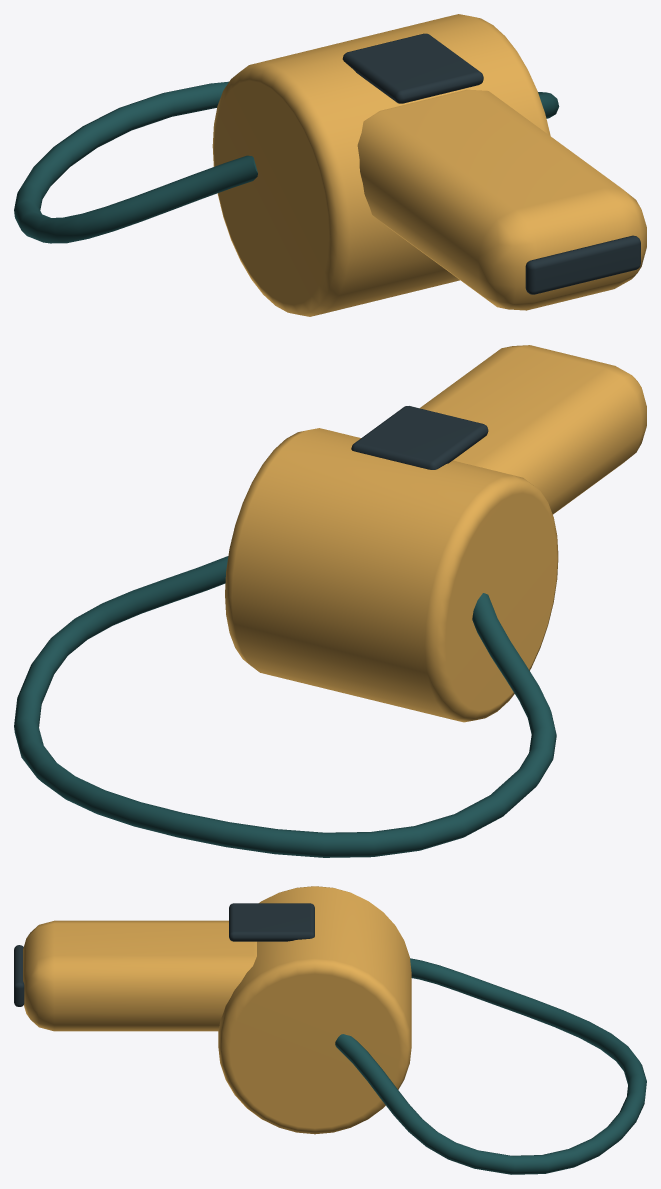
Rendered from Whistle.fbx.
3 views of the same model, one above another, from view 1: azimuth 30°, elevation 25°; view 2: azimuth 150°, elevation 25°; view 3: azimuth 270°, elevation 25° (orthographic). The views are drawn at different scales.
Visible parts, largest first — view 1: Surface_KKTC_Ochre, Surface_KKTC_CanvasDeep, Surface_KKTC_Rubber; view 2: Surface_KKTC_Ochre, Surface_KKTC_CanvasDeep, Surface_KKTC_Rubber; view 3: Surface_KKTC_Ochre, Surface_KKTC_CanvasDeep, Surface_KKTC_Rubber.
Part boxes in pixels (box(x1,y1,x2,y2)): Surface_KKTC_Ochre: box(212, 14, 646, 316); Surface_KKTC_CanvasDeep: box(14, 81, 559, 243); Surface_KKTC_Rubber: box(342, 33, 640, 294); Surface_KKTC_Ochre: box(225, 345, 646, 722); Surface_KKTC_CanvasDeep: box(14, 556, 556, 857); Surface_KKTC_Rubber: box(351, 406, 488, 469); Surface_KKTC_Ochre: box(23, 886, 411, 1134); Surface_KKTC_CanvasDeep: box(335, 958, 646, 1174); Surface_KKTC_Rubber: box(14, 903, 314, 1006).
Bounding box in the file's own units: 8.14 × 3.7 × 11.78.
